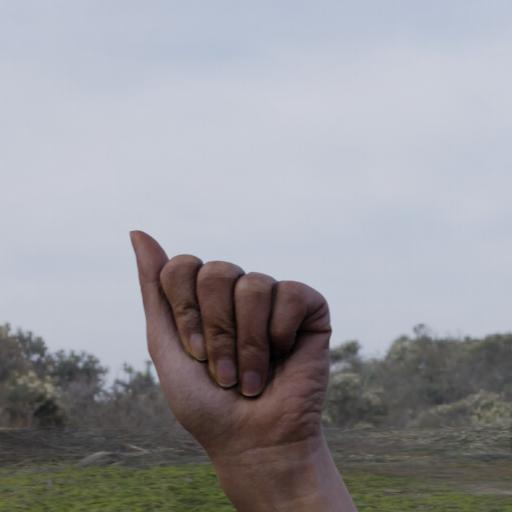A: (128, 222, 342, 442)
